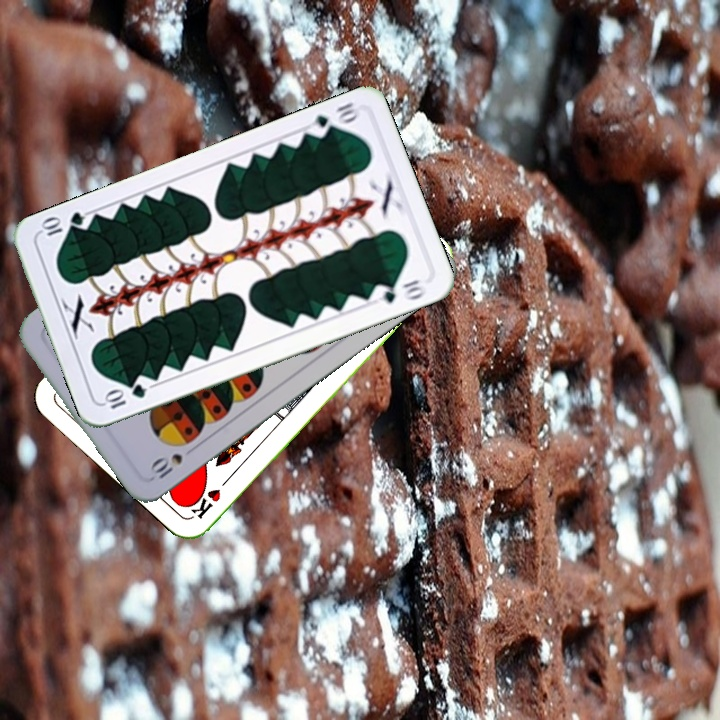G10: (304, 97, 363, 140), (100, 380, 150, 412)
HK: (186, 471, 234, 522)
S10: (146, 442, 199, 482)
